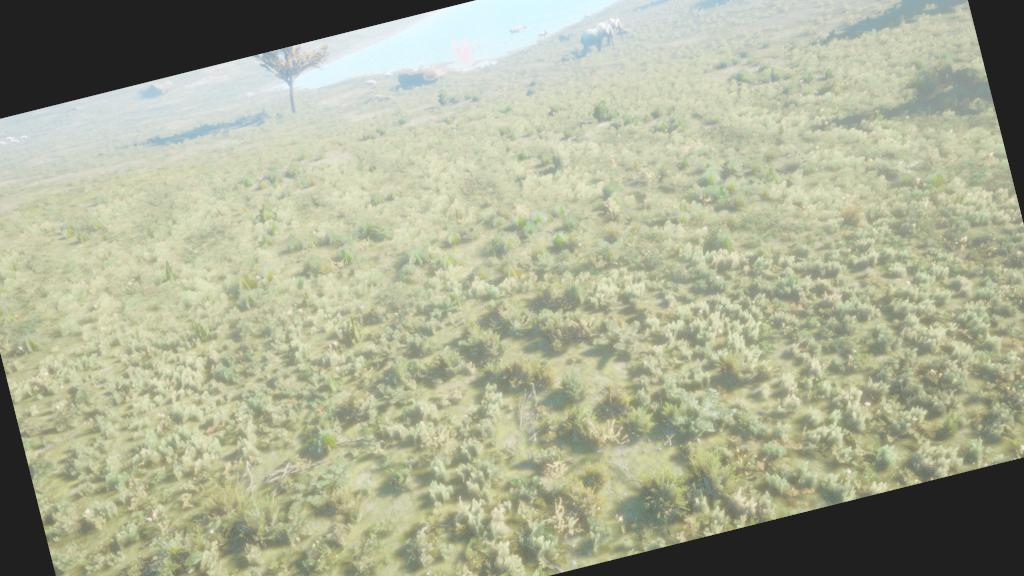elephant: (571, 11, 623, 60)
